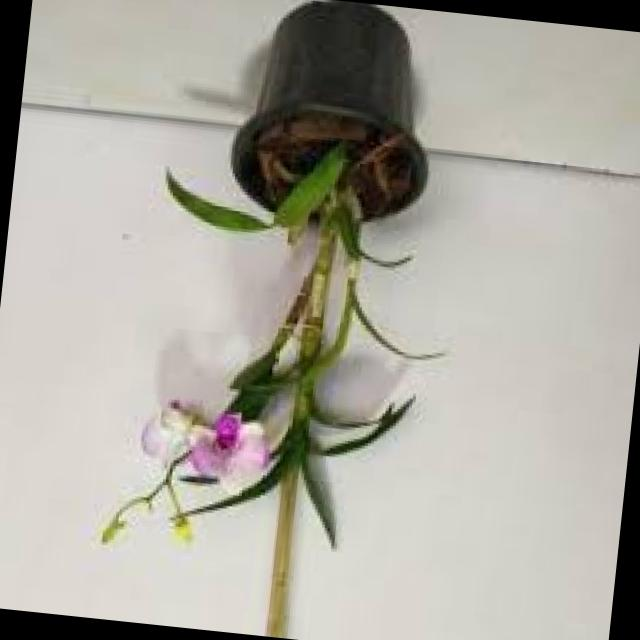flower: (181, 401, 273, 501), (136, 399, 205, 481)
leaf: (162, 442, 296, 523), (159, 159, 265, 236), (169, 420, 290, 487), (269, 137, 353, 231), (305, 394, 424, 459), (351, 291, 453, 364), (219, 340, 282, 395), (304, 393, 391, 432), (299, 461, 334, 556), (339, 240, 419, 273)
plant: (91, 7, 487, 596)
pot: (221, 0, 448, 231)
stem: (292, 200, 341, 422), (265, 269, 310, 361), (338, 186, 363, 281)
